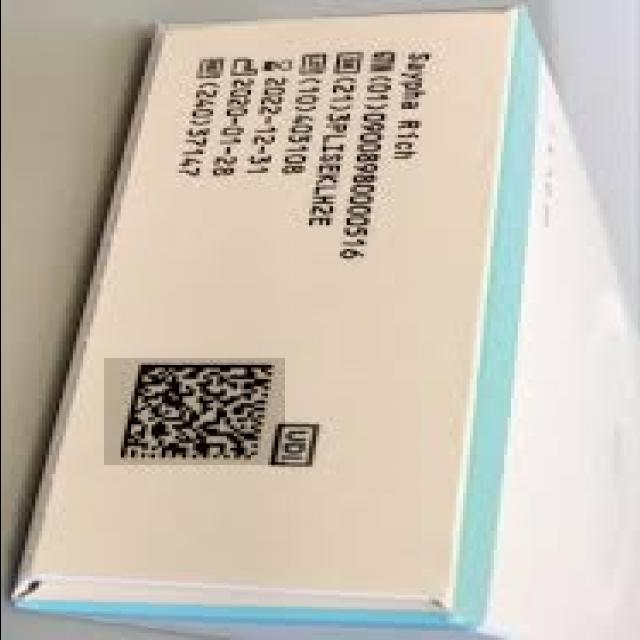Data-Matrix: (103, 358, 284, 465)
